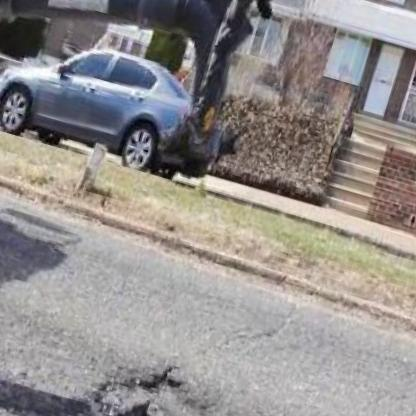pothole: (67, 345, 221, 416)
